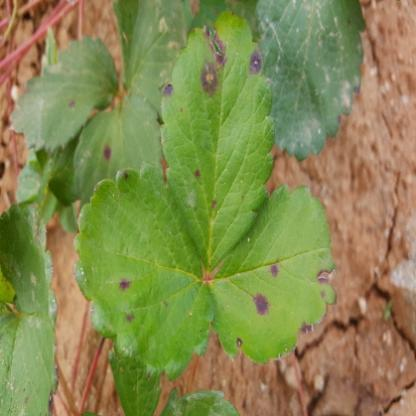Strawberry_Leaf_Spot: (70, 161, 214, 379), (158, 10, 276, 274), (205, 184, 338, 365)
